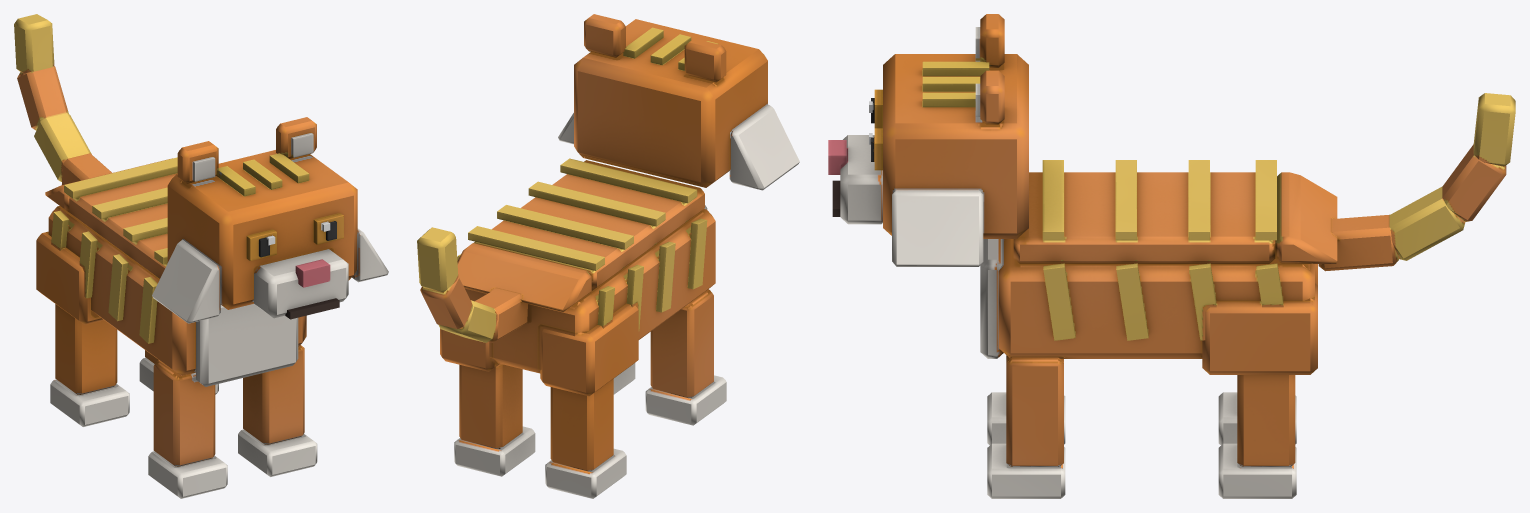
Rendered from TigreBengal_Rig.fbx.
3 views of the same model, side by side, from view 1: azimuth 30°, elevation 25°; view 2: azimuth 150°, elevation 25°; view 3: azimuth 270°, elevation 25° (orthographic). The views are drawn at different scales.
Parts seen in each view (by area): view 1: Head, Body, LegBR, LegFR, Tail, LegFL, LegBL; view 2: Body, Head, LegBR, LegBL, LegFR, Tail; view 3: Body, Head, LegBL, Tail, LegFL, LegBR, LegFR.
Boxes of the visible parts, x1=… form: Head: x1=152, y1=117, x2=388, y2=323; Body: x1=45, y1=157, x2=306, y2=386; LegBR: x1=36, y1=231, x2=129, y2=426; LegFR: x1=148, y1=360, x2=227, y2=498; Tail: x1=14, y1=14, x2=111, y2=185; LegFL: x1=238, y1=345, x2=317, y2=476; LegBL: x1=139, y1=350, x2=218, y2=394; Body: x1=457, y1=158, x2=715, y2=373; Head: x1=558, y1=14, x2=799, y2=190; LegBR: x1=540, y1=303, x2=638, y2=498; LegBL: x1=440, y1=328, x2=535, y2=476; LegFR: x1=645, y1=289, x2=726, y2=425; Tail: x1=417, y1=227, x2=527, y2=342; Body: x1=980, y1=160, x2=1337, y2=358; Head: x1=828, y1=14, x2=1028, y2=266; LegBL: x1=1202, y1=283, x2=1317, y2=498; Tail: x1=1318, y1=93, x2=1515, y2=271; LegFL: x1=987, y1=355, x2=1065, y2=498; LegBR: x1=1218, y1=264, x2=1317, y2=445; LegFR: x1=987, y1=392, x2=1065, y2=445.
Bounding box in the file's own units: 3.64 × 6 × 9.1.
1 material, 1 textured.
